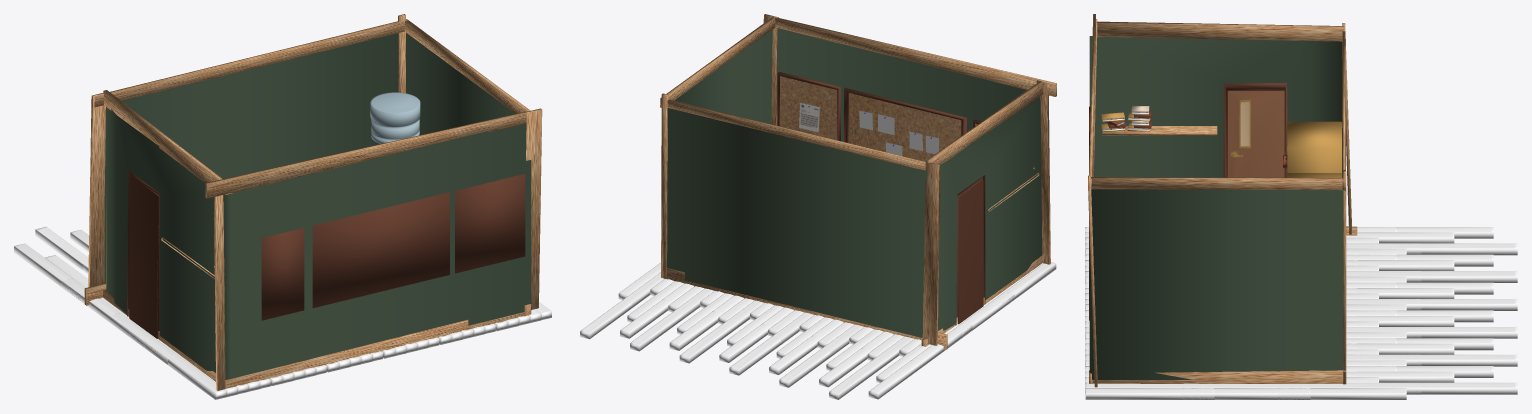
File: organizedOffice.glb
The picture shows the model from 3 angles, left to right: view 1: azimuth 30°, elevation 25°; view 2: azimuth 150°, elevation 25°; view 3: azimuth 270°, elevation 25°; orthographic projection. The views are drawn at different scales.
Visible parts, largest first — view 1: GreenWalls, WoodFrame, CorkFrame, Flooring, Door, WaterTank, DoorFrame; view 2: GreenWalls, Flooring, WoodFrame, corkboard, Door, CorkFrame, DoorFrame, Exposition; view 3: GreenWalls, Flooring, WoodFrame, Door, SmallCabinet.001, DoorFrame, plank.
Part boxes in pixels (left/top/right/bottom): GreenWalls: left=104, top=33, right=531, bottom=379; WoodFrame: left=84, top=14, right=542, bottom=390; CorkFrame: left=261, top=174, right=525, bottom=320; Flooring: left=14, top=226, right=551, bottom=399; Door: left=129, top=176, right=159, bottom=338; WaterTank: left=370, top=92, right=420, bottom=143; DoorFrame: left=127, top=170, right=159, bottom=339; GreenWalls: left=667, top=28, right=1042, bottom=337; Flooring: left=580, top=262, right=1056, bottom=399; WoodFrame: left=660, top=14, right=1056, bottom=349; corkboard: left=780, top=76, right=977, bottom=161; Door: left=957, top=180, right=983, bottom=323; CorkFrame: left=777, top=72, right=981, bottom=142; DoorFrame: left=955, top=175, right=985, bottom=325; Exposition: left=799, top=103, right=819, bottom=132; GreenWalls: left=1089, top=36, right=1345, bottom=379; Flooring: left=1085, top=227, right=1517, bottom=399; WoodFrame: left=1088, top=14, right=1357, bottom=387; Door: left=1227, top=89, right=1284, bottom=177; SmallCabinet.001: left=1282, top=121, right=1341, bottom=172; DoorFrame: left=1223, top=83, right=1287, bottom=177; plank: left=1102, top=126, right=1217, bottom=135.
Bounding box in the file's own units: 4.94 × 2.98 × 5.35.
5 materials, 3 textured.
